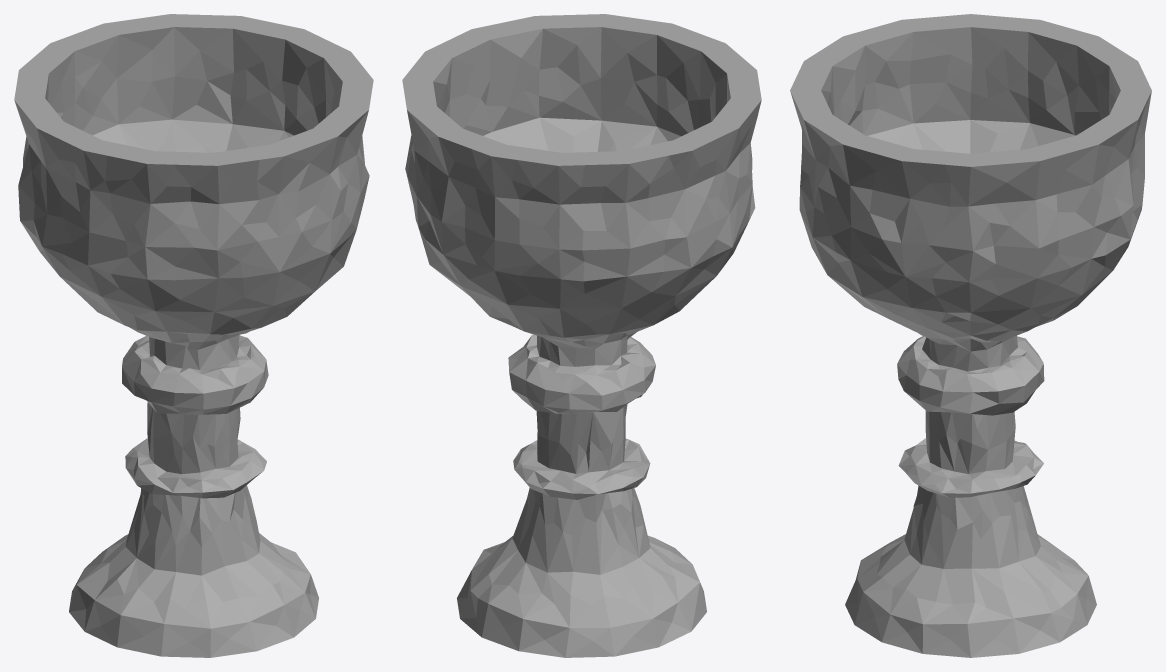
File: chalice.fbx
3 views of the same model, side by side, from view 1: azimuth 30°, elevation 25°; view 2: azimuth 150°, elevation 25°; view 3: azimuth 270°, elevation 25° (orthographic).
Parts seen in each view (by area): view 1: Chalice; view 2: Chalice; view 3: Chalice.
Part boxes in pixels (<box>): Chalice: <box>14,14,373,657</box>; Chalice: <box>402,14,761,657</box>; Chalice: <box>790,14,1151,657</box>.
Bounding box in the file's own units: 185 × 290 × 185.
